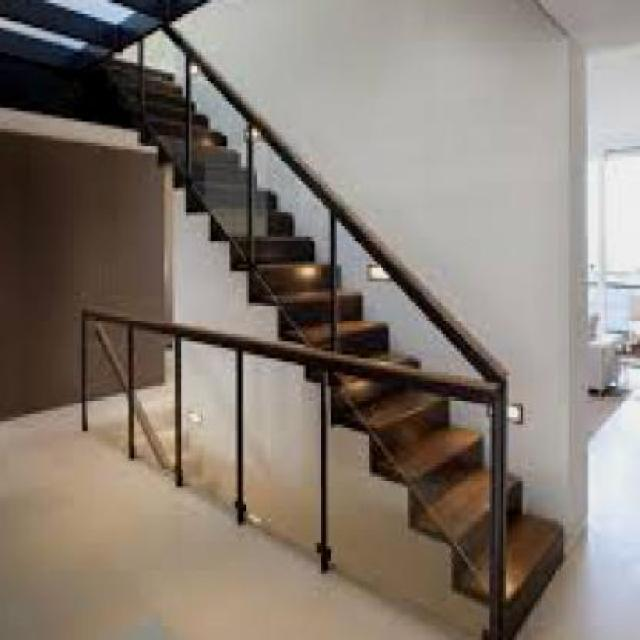stair: (87, 34, 596, 636)
